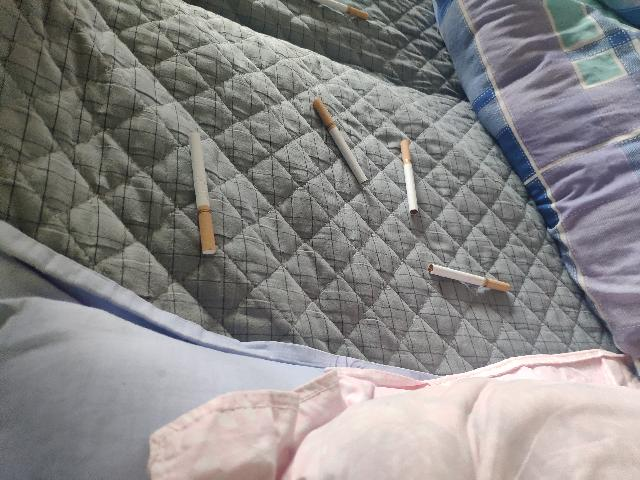Cigarette: (313, 98, 369, 184), (189, 132, 217, 254), (429, 264, 511, 292), (401, 140, 419, 216), (310, 0, 370, 21)
